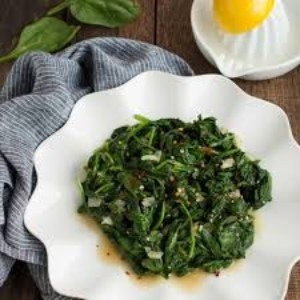spinach_brain food: (95, 111, 261, 283)
